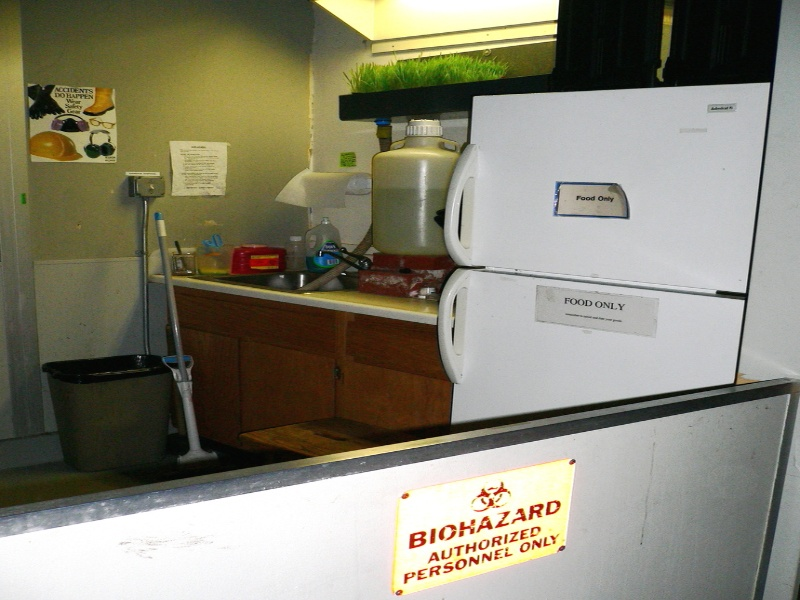refrigerator: (438, 80, 766, 425)
